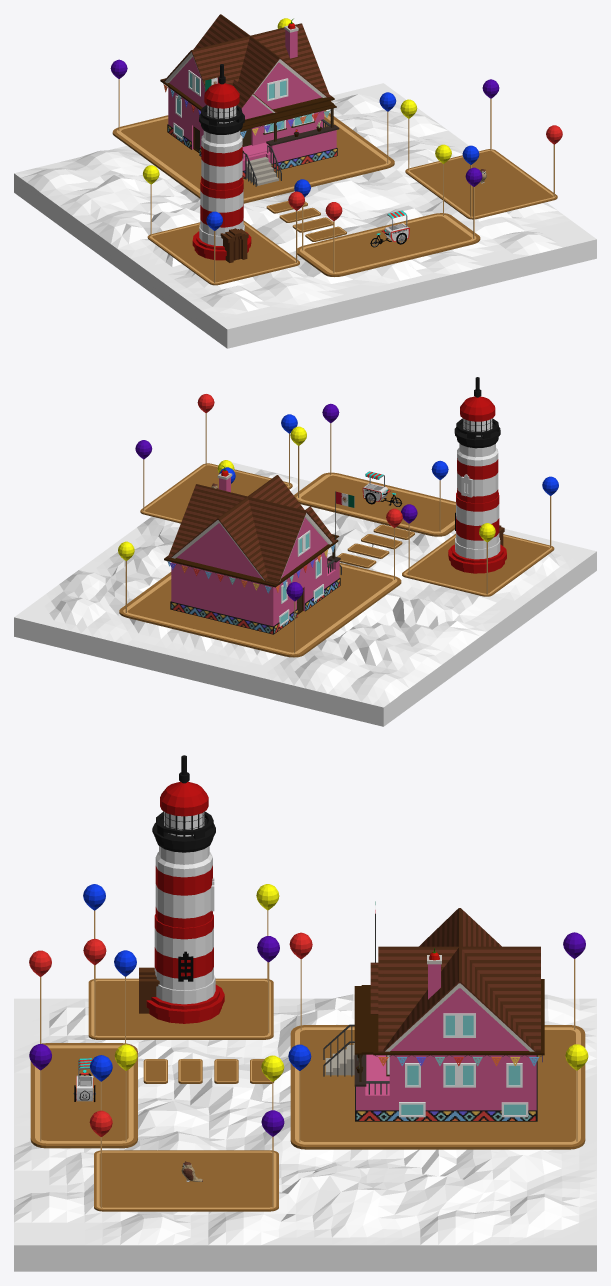
3 renders of one model, top to bottom at view 1: azimuth 30°, elevation 25°; view 2: azimuth 150°, elevation 25°; view 3: azimuth 270°, elevation 25°, orthographic. The views are drawn at different scales.
Visible parts, largest first — view 1: Cube.013, Cube.1005, OBJRANDOM_LIGHTHOUSE, VEHICLES_SNOWBAL_BIKE; view 2: Cube.013, Cube.1005, OBJRANDOM_LIGHTHOUSE, VEHICLES_SNOWBAL_BIKE; view 3: Cube.013, Cube.1005, OBJRANDOM_LIGHTHOUSE, VEHICLES_SNOWBAL_BIKE.
Boxes of the visible parts, left/top/right/bottom form: Cube.013: left=14, top=18, right=596, bottom=348; Cube.1005: left=160, top=14, right=339, bottom=186; OBJRANDOM_LIGHTHOUSE: left=192, top=64, right=251, bottom=262; VEHICLES_SNOWBAL_BIKE: left=370, top=210, right=409, bottom=247; Cube.013: left=14, top=394, right=596, bottom=726; Cube.1005: left=164, top=466, right=354, bottom=634; OBJRANDOM_LIGHTHOUSE: left=448, top=377, right=506, bottom=573; VEHICLES_SNOWBAL_BIKE: left=362, top=471, right=402, bottom=506; Cube.013: left=14, top=884, right=596, bottom=1271; Cube.1005: left=323, top=901, right=544, bottom=1121; OBJRANDOM_LIGHTHOUSE: left=139, top=755, right=224, bottom=1023; VEHICLES_SNOWBAL_BIKE: left=73, top=1058, right=95, bottom=1101.
Size of the model in its own units: 4000 by 2404 by 4000.
72 materials, 3 textured.
